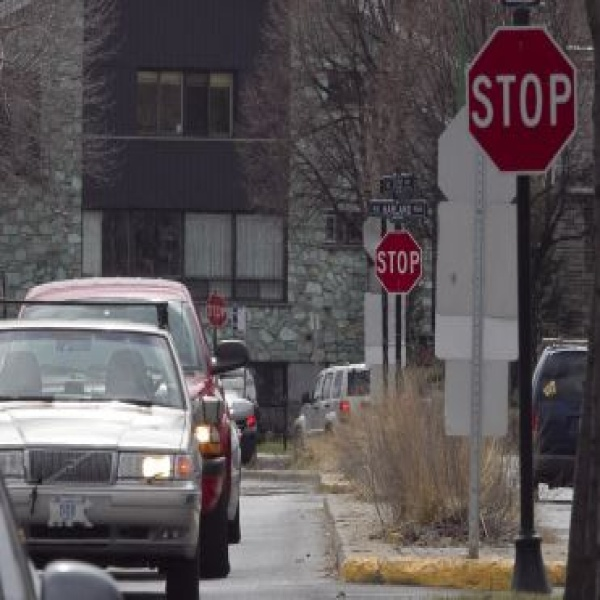stop: (468, 25, 578, 170), (371, 233, 423, 297)
